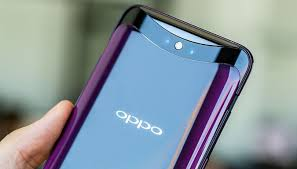oppo: (32, 2, 261, 168)
